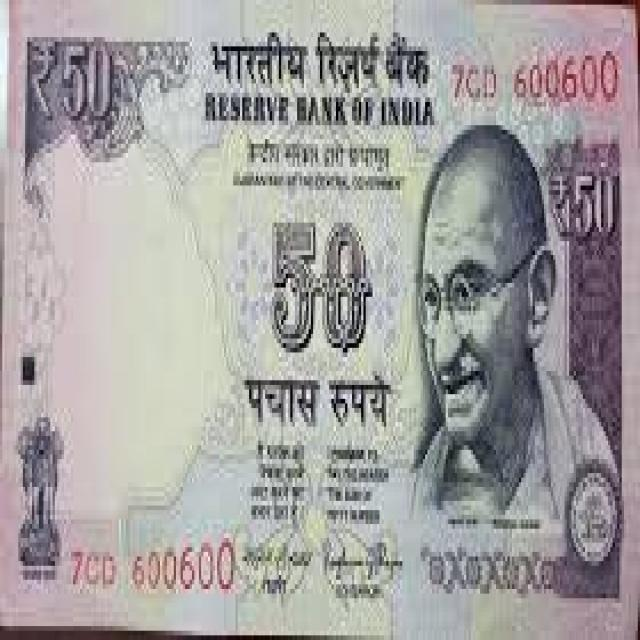50rs: (3, 8, 640, 640)
